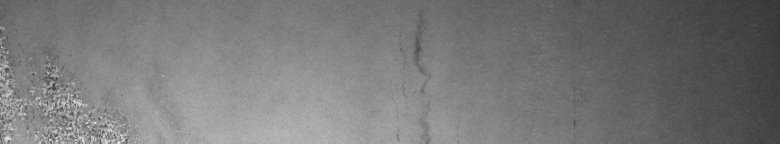hc: (4, 44, 138, 136)
